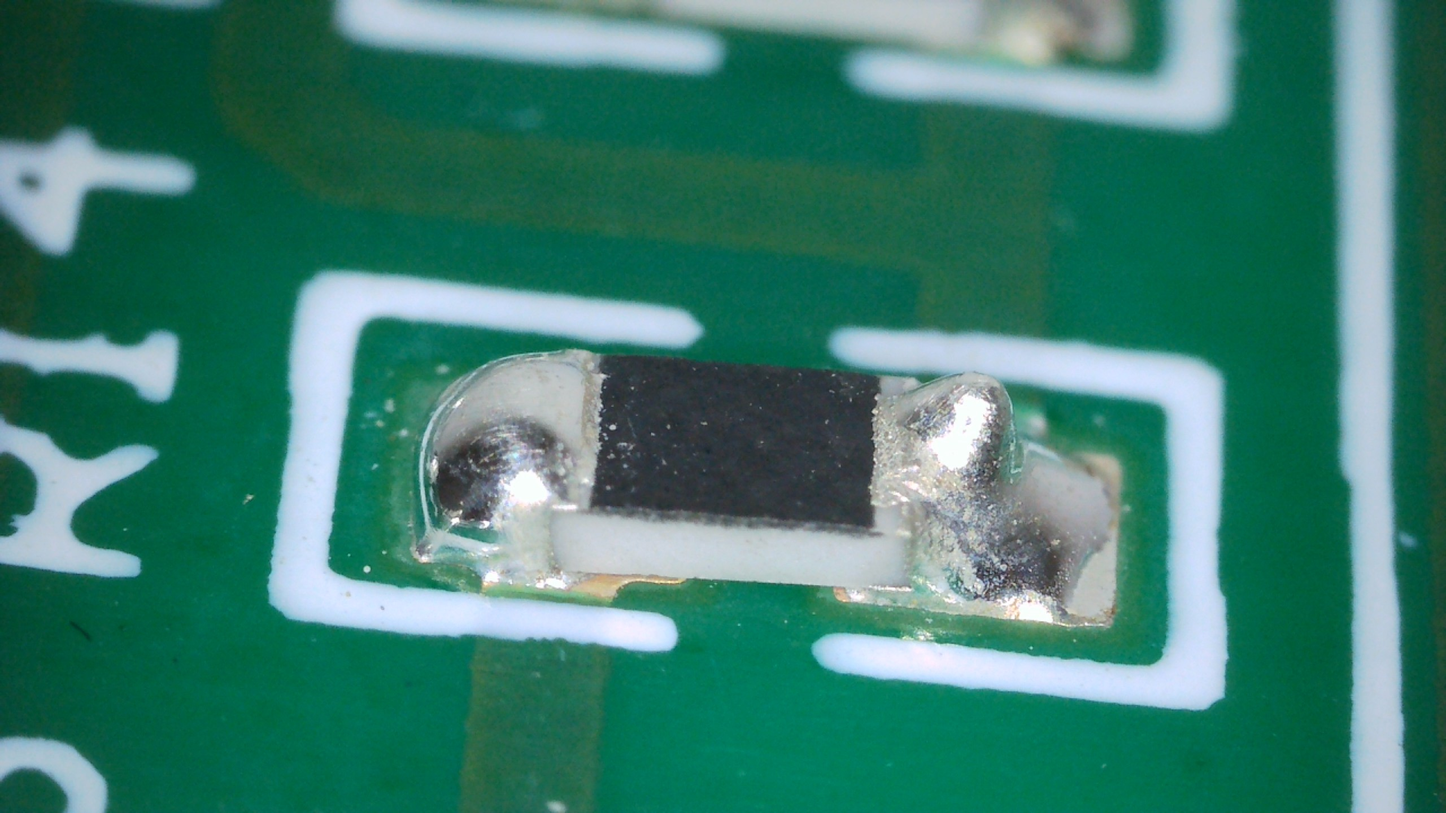NG: (873, 374, 1109, 612), (410, 350, 598, 589)
